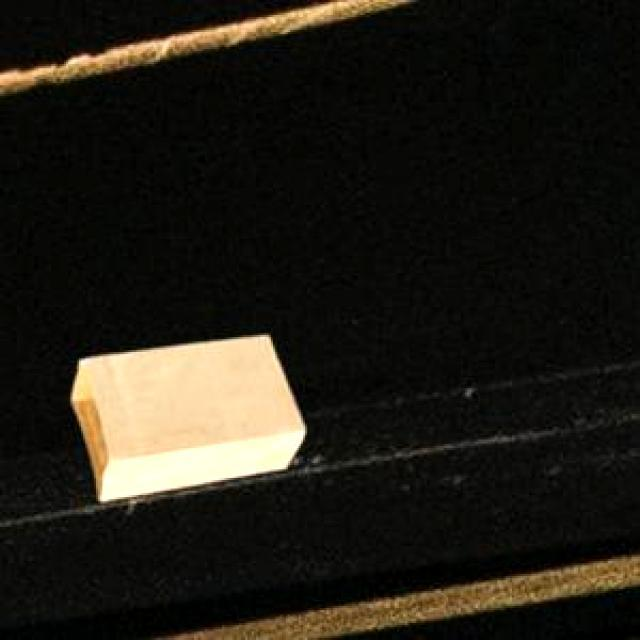Paper_Bag: (69, 332, 302, 498)
